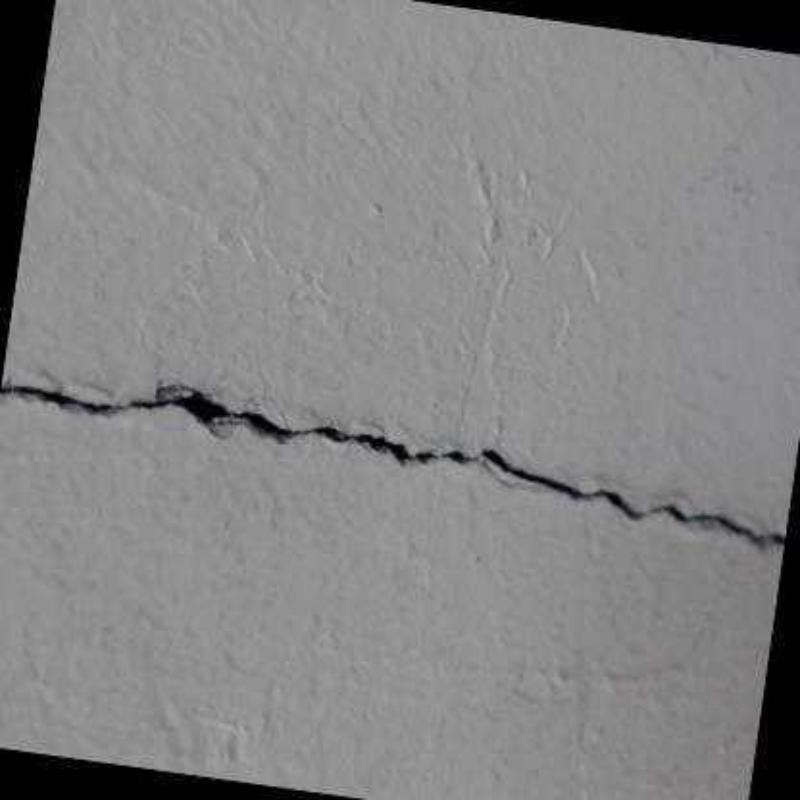pothole: (1, 382, 786, 549)
